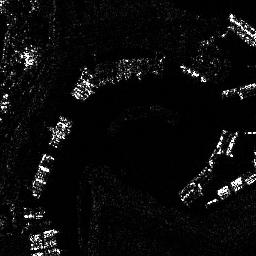ship: (228, 11, 256, 41), (179, 64, 208, 83)
